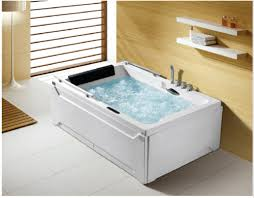bathub: (52, 59, 231, 184)
